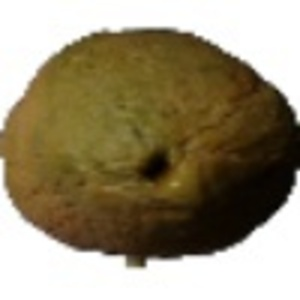mamão: (3, 17, 295, 257)
